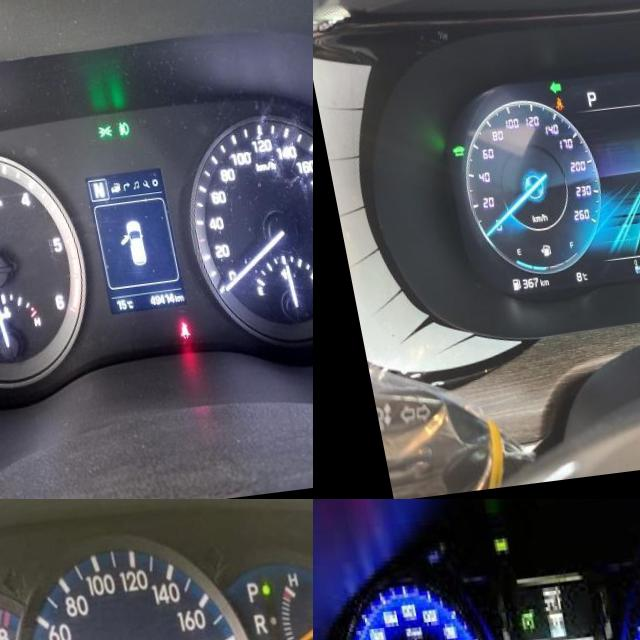SideLamp: (85, 132, 102, 148)
